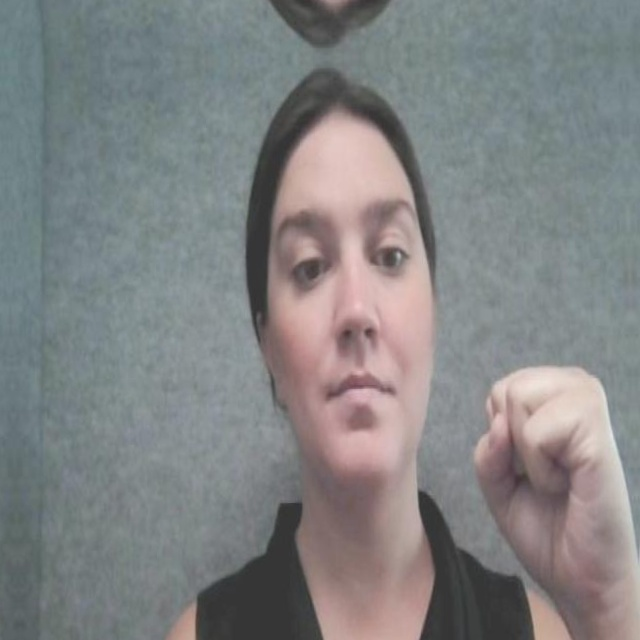Rock: (451, 341, 640, 615)
